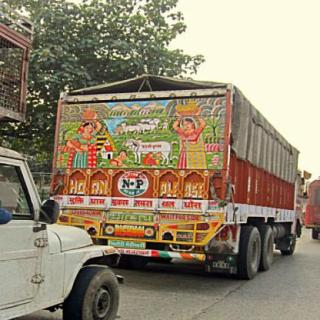Normal_vehicle: (36, 68, 313, 280)
